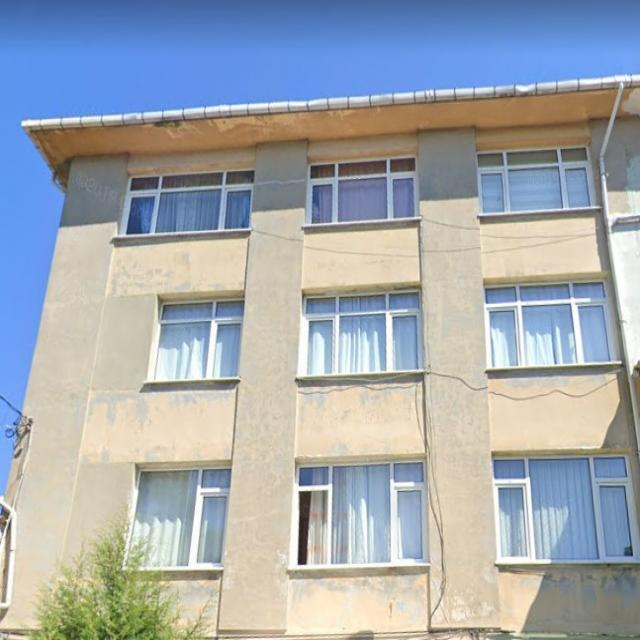Building: (1, 75, 640, 640)
